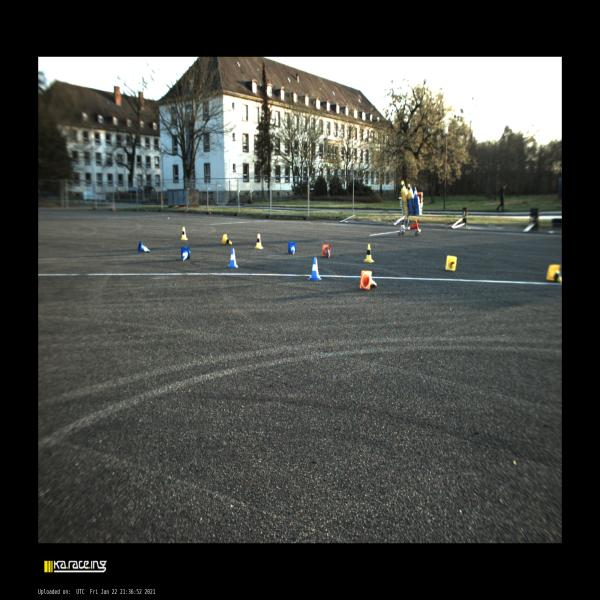blue_cone: (308, 257, 322, 281), (228, 248, 238, 268), (137, 241, 150, 254), (181, 247, 190, 261), (288, 241, 296, 255)
orange_cone: (360, 271, 376, 289), (322, 244, 331, 258)
yellow_cone: (546, 264, 562, 284), (445, 255, 457, 271), (364, 244, 374, 263), (255, 233, 263, 249), (222, 234, 232, 245), (181, 227, 188, 240)
